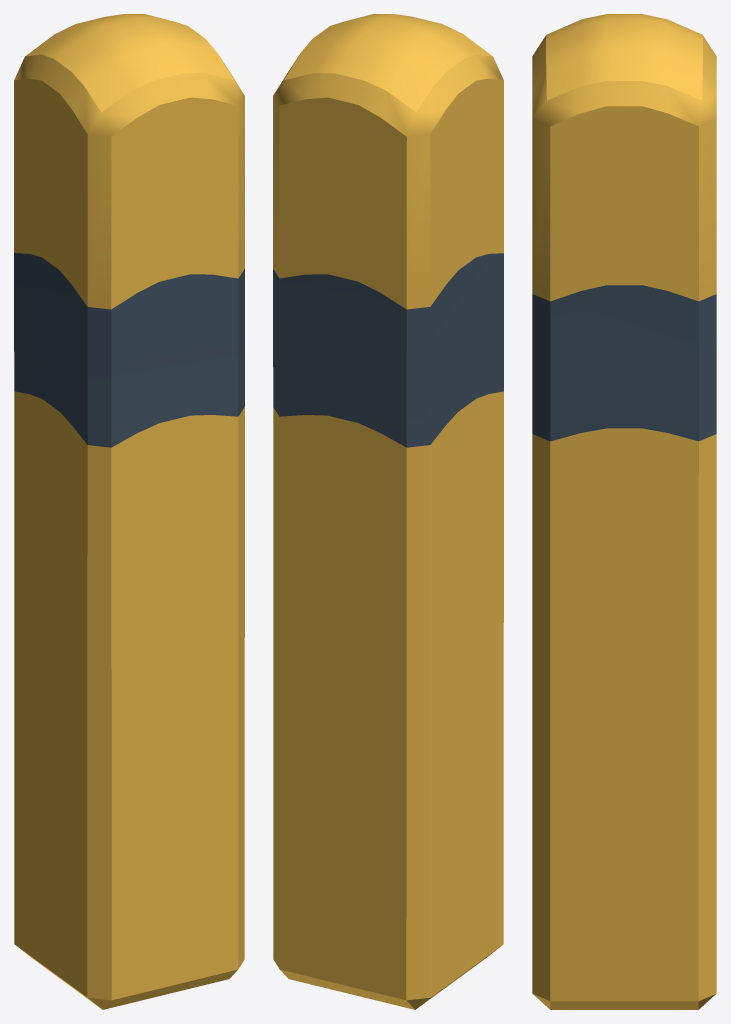
Rendered from duba.fbx.
3 views of the same model, side by side, from view 1: azimuth 30°, elevation 25°; view 2: azimuth 150°, elevation 25°; view 3: azimuth 270°, elevation 25° (orthographic).
Parts seen in each view (by area): view 1: pCube81; view 2: pCube81; view 3: pCube81.
Part boxes in pixels (box(x1,y1,x2,y2)): pCube81: box(14, 14, 244, 1009); pCube81: box(273, 14, 503, 1009); pCube81: box(532, 14, 716, 1009).
Bounding box in the file's own units: 14.29 × 81.55 × 14.29.
